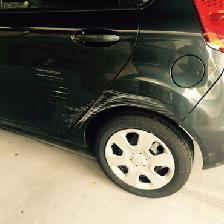door_scratch: (21, 38, 193, 169)
